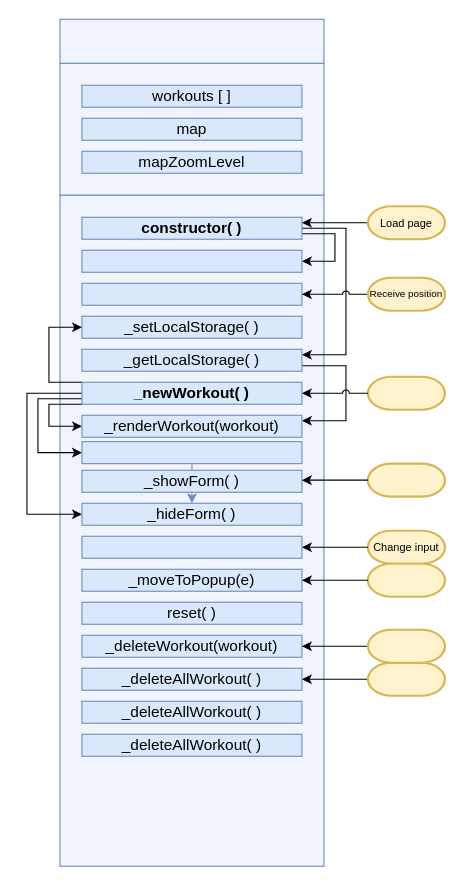
The diagram is 465 pixels wide and 886 high, and some of its shapes have lost their labels. The shapes that lost their labels are listed below. From the top down, each one's centre as x and y in pixels, then its label:
At point (191, 40): "Class App".
At point (191, 260): "_getPosition( )".
At point (191, 293): "_loadMap(position)".
At point (406, 392): "Submit form".
At point (191, 452): "_renderWorkoutMarker( )".
At point (406, 479): "Click on map".
At point (191, 546): "_toggleElevationField( )".
At point (406, 579): "Click workout".
At point (406, 645): "Click delete".
At point (406, 678): "Click delete all".
